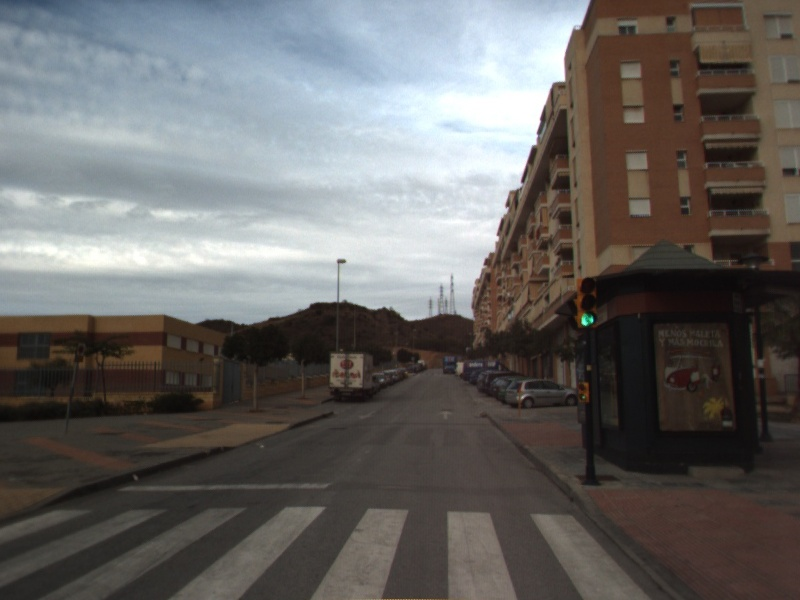STRAIGHT: (436, 408, 456, 421)
